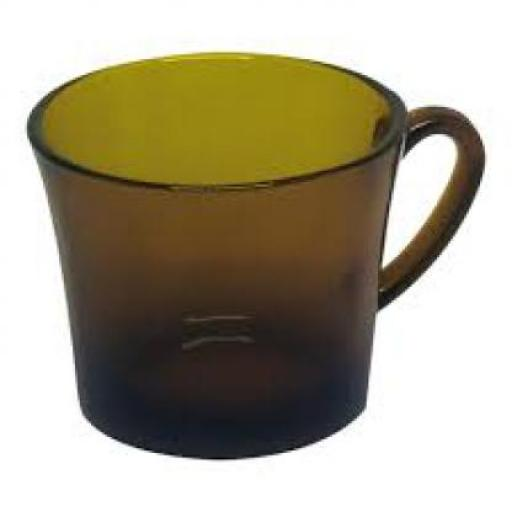glass: (22, 50, 483, 455)
